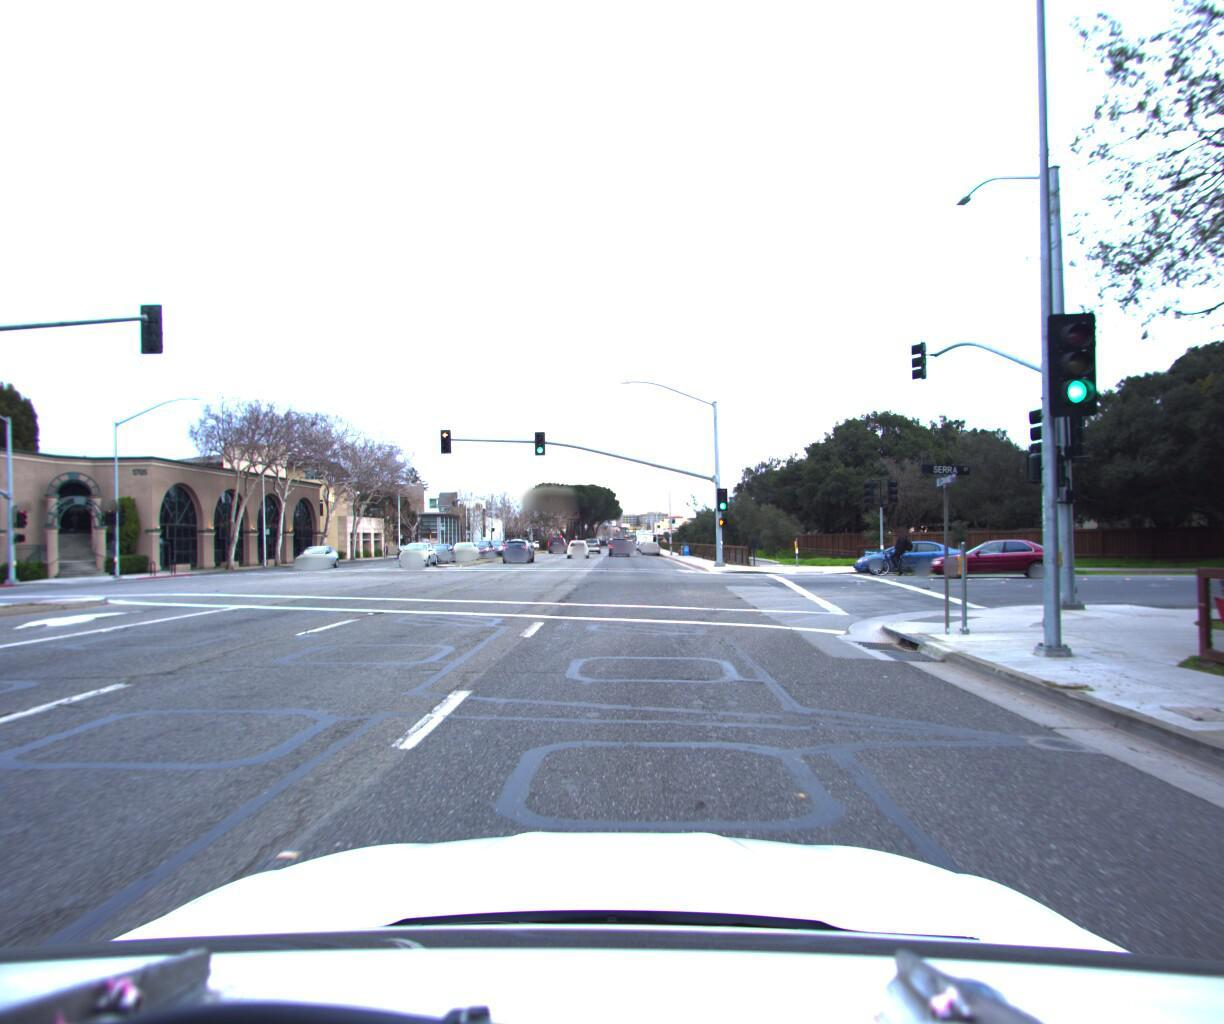bicycle: (865, 520, 920, 569)
car: (921, 532, 1069, 573), (792, 533, 899, 569), (288, 541, 341, 567), (397, 536, 440, 562), (499, 533, 535, 558), (420, 537, 460, 559), (447, 536, 481, 556), (468, 534, 495, 553), (565, 534, 590, 553), (609, 533, 631, 552), (640, 535, 658, 549)
